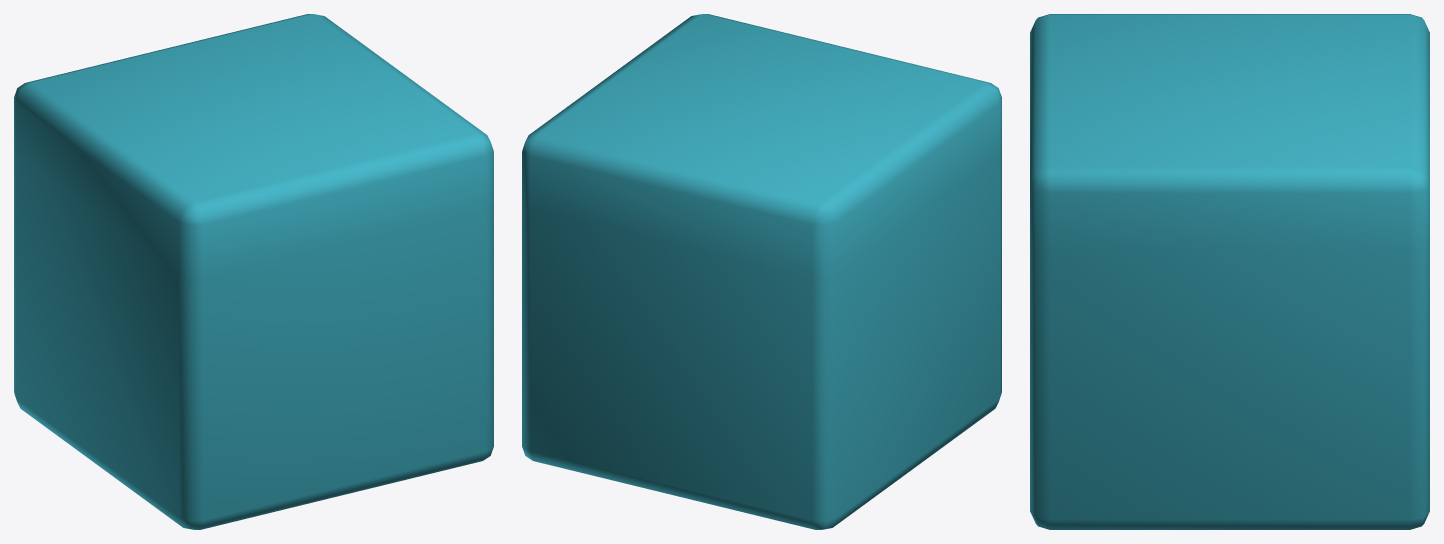
Rendered from WaterBlok.fbx.
3 views of the same model, side by side, from view 1: azimuth 30°, elevation 25°; view 2: azimuth 150°, elevation 25°; view 3: azimuth 270°, elevation 25° (orthographic). The views are drawn at different scales.
Parts seen in each view (by area): view 1: WaterBlok; view 2: WaterBlok; view 3: WaterBlok.
Boxes of the visible parts, x1=… form: WaterBlok: x1=14, y1=14, x2=493, y2=529; WaterBlok: x1=522, y1=14, x2=1001, y2=529; WaterBlok: x1=1030, y1=14, x2=1429, y2=529.
Bounding box in the file's own units: 100 × 100 × 100.
